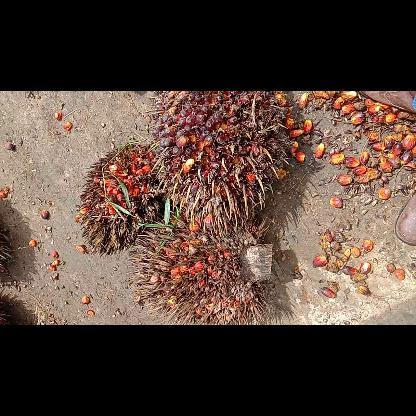TBS masak: (150, 91, 296, 241)
Terlalu masak: (126, 206, 278, 324), (74, 141, 164, 257)
